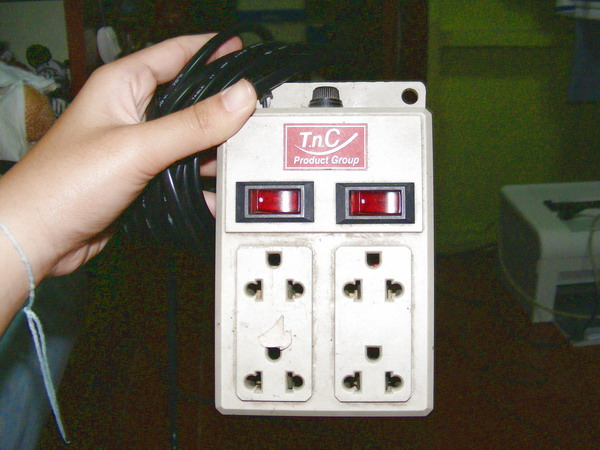Three_eye_plug: (199, 68, 446, 420)
